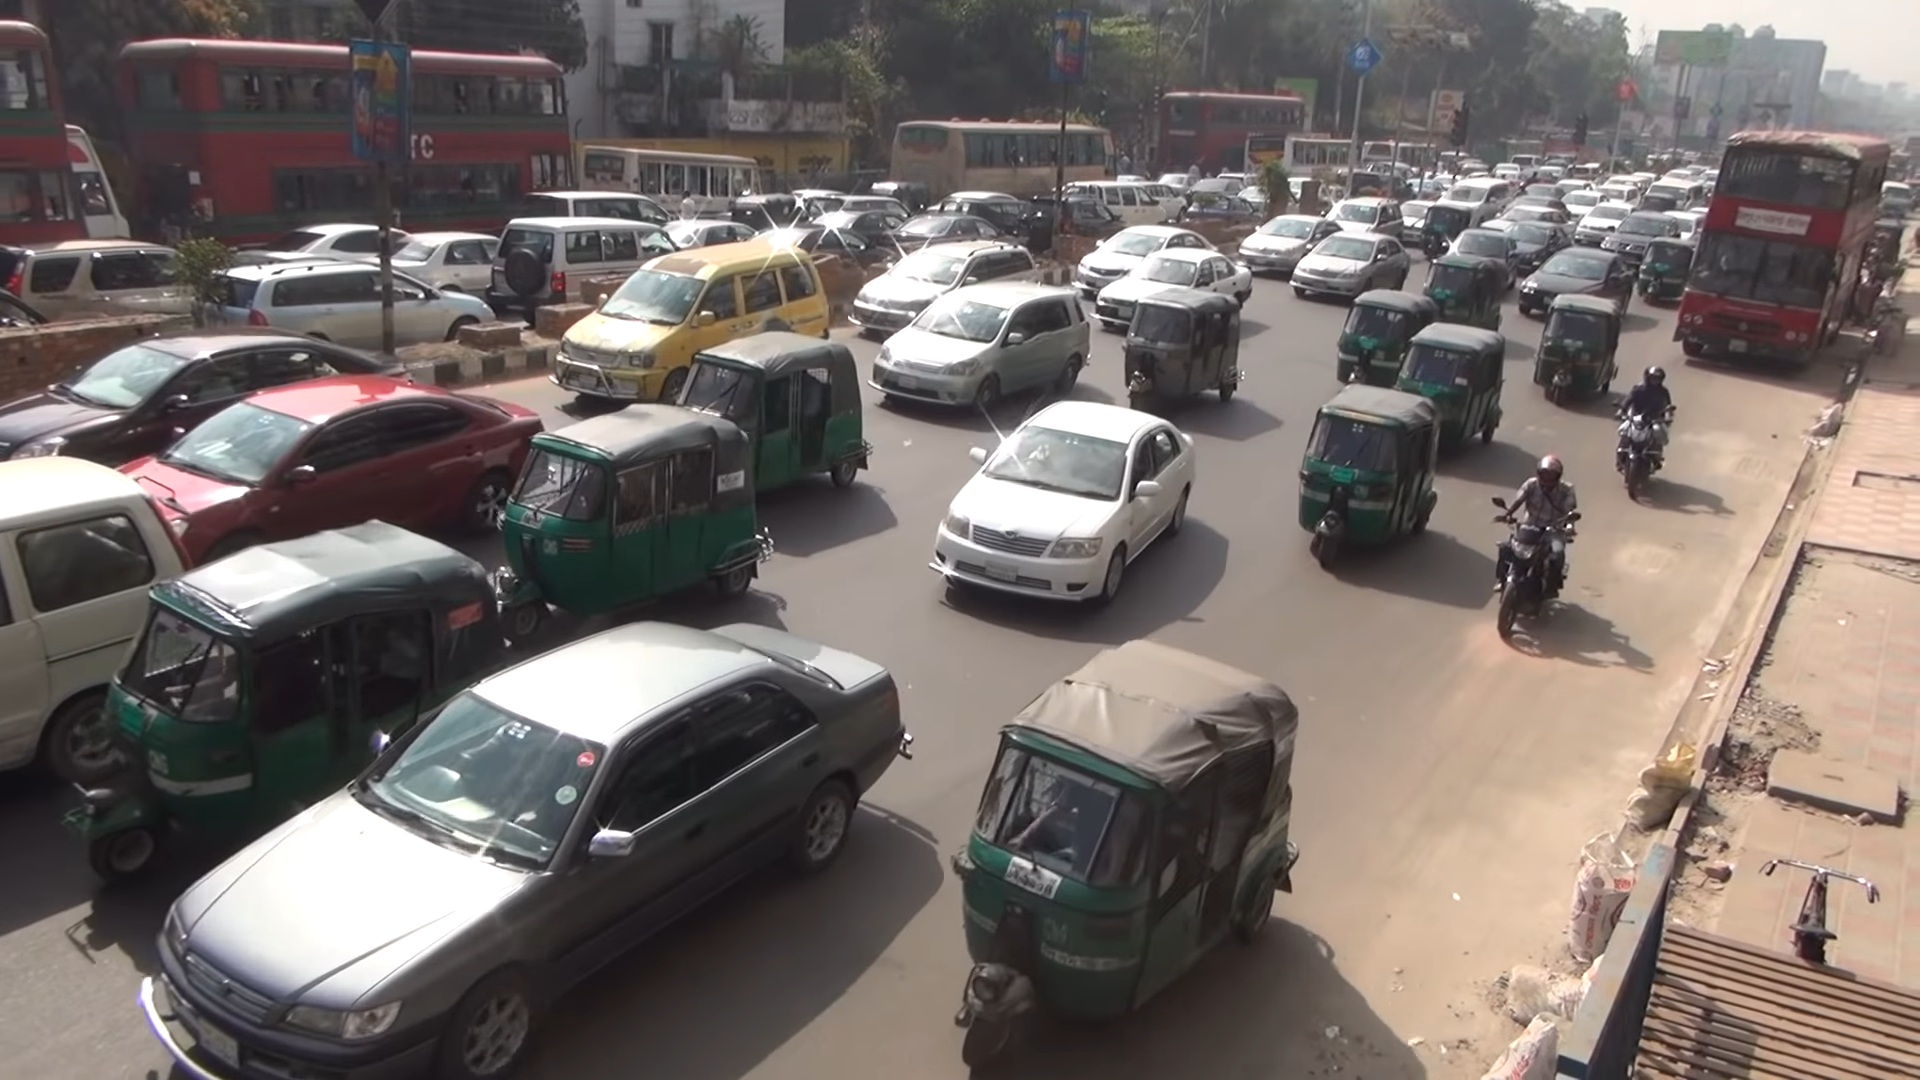bike: (1486, 501, 1580, 634), (1611, 401, 1683, 497)
bus: (123, 40, 578, 243), (1669, 128, 1898, 376), (1, 20, 92, 247), (887, 123, 1116, 191), (582, 149, 774, 214), (1155, 95, 1309, 171)
car: (142, 620, 911, 1073), (120, 375, 545, 562), (1, 454, 196, 781), (930, 396, 1199, 605), (1, 332, 419, 462), (553, 233, 833, 404), (872, 276, 1092, 415), (203, 258, 497, 342), (483, 218, 682, 324), (843, 239, 1038, 338), (3, 243, 199, 316), (1097, 247, 1257, 334), (1288, 228, 1418, 307), (1073, 224, 1220, 291), (384, 232, 501, 291), (1232, 214, 1338, 272), (1063, 178, 1178, 222), (270, 222, 417, 253), (526, 193, 676, 216)
cng: (59, 512, 509, 884), (951, 640, 1307, 1076), (492, 404, 774, 634), (686, 328, 874, 495), (1290, 389, 1447, 572), (1117, 289, 1251, 426), (1395, 324, 1511, 440), (1335, 282, 1440, 386), (1532, 295, 1625, 405), (1429, 253, 1505, 318), (1636, 241, 1698, 307)
